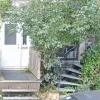stairs: (58, 55, 81, 93)
